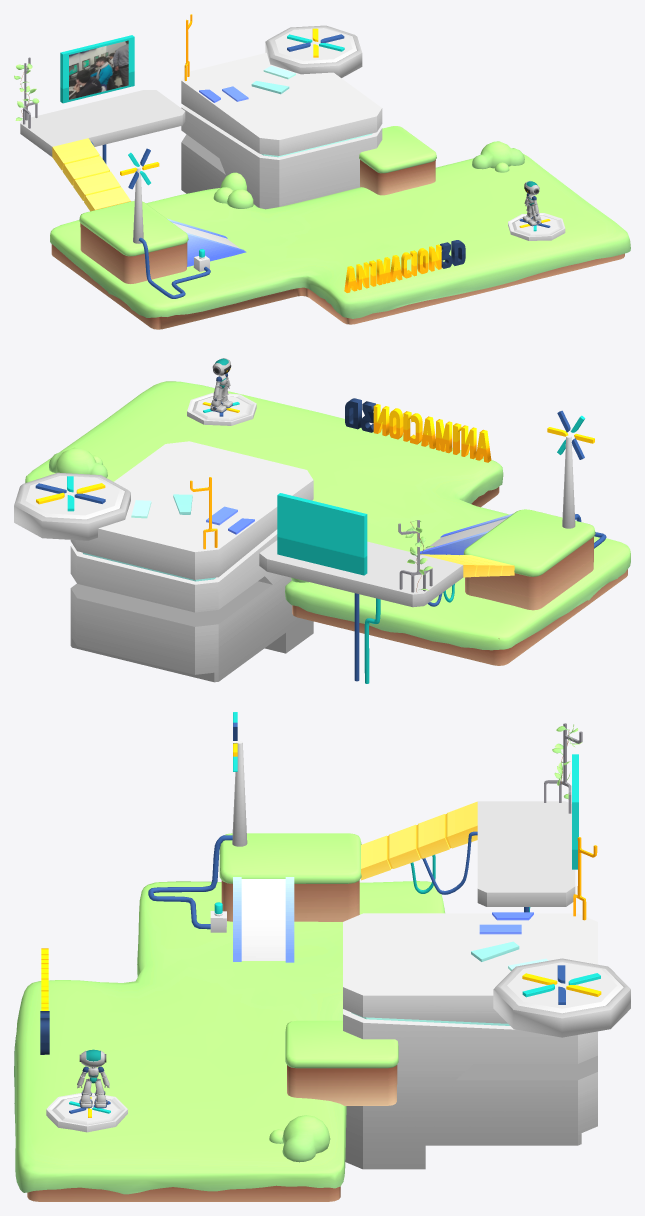
Rendered from unrafita-sandbox-scenario-threejs.glb.
3 renders of one model, top to bottom at view 1: azimuth 30°, elevation 25°; view 2: azimuth 150°, elevation 25°; view 3: azimuth 270°, elevation 25°, orthographic. The views are drawn at different scales.
Visible parts, largest first — view 1: level, cartel, Character; view 2: level, cartel, Character; view 3: level, Character, cartel.
Part boxes in pixels (<box>): level: <box>14,14,630,329</box>; cartel: <box>60,35,134,103</box>; Character: <box>522,180,541,226</box>; level: <box>14,381,630,683</box>; cartel: <box>277,493,367,575</box>; Character: <box>210,358,232,412</box>; level: <box>14,712,630,1201</box>; Character: <box>77,1049,109,1108</box>; cartel: <box>572,754,578,869</box>.
Size of the model in its own units: 11.63 by 4.75 by 10.27.
5 materials, 5 textured.
